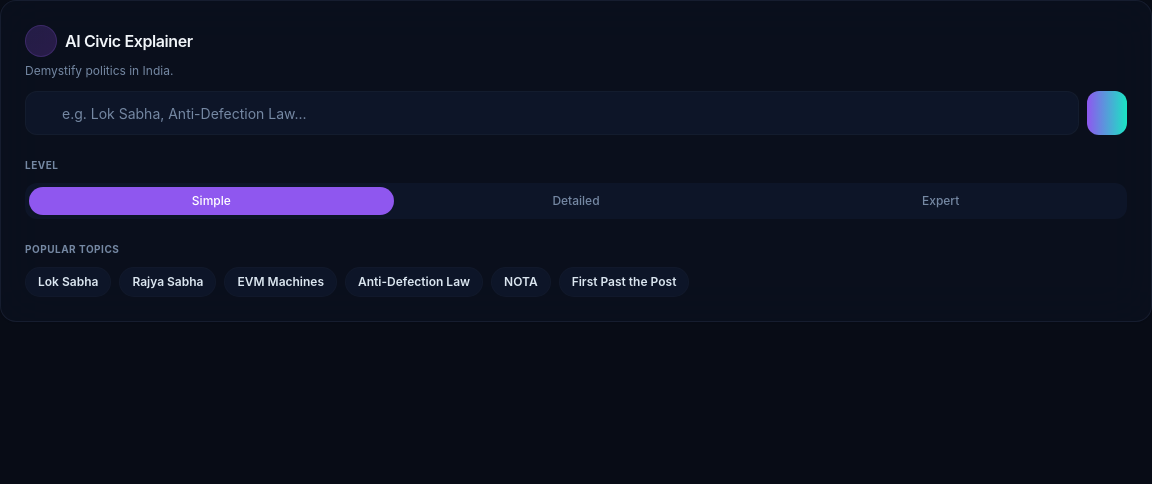
Test: CivicExplainer › should display related terms after explanation
Click the text "NOTA": (521, 282) [491,267,551,297]
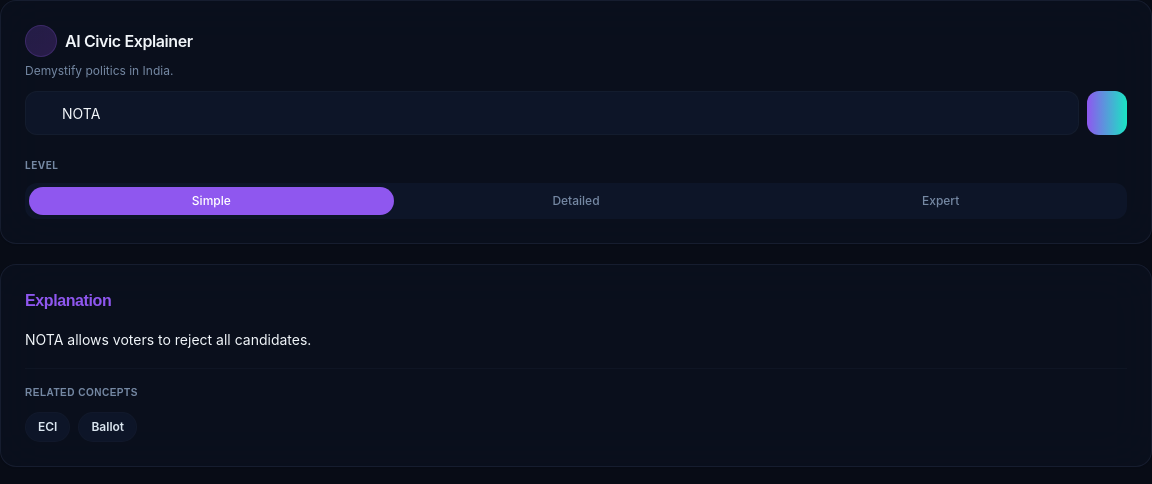
expect the text "ECI" is shown: met, box [25,412,70,442]
